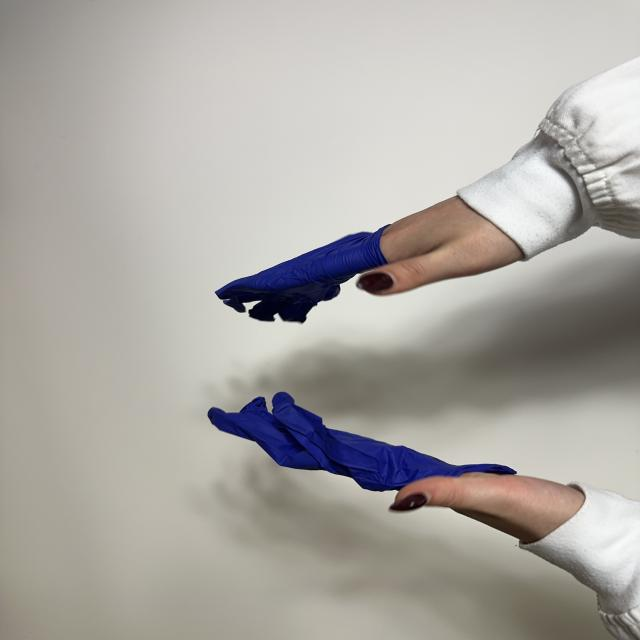glove_partial: (208, 392, 586, 543), (217, 197, 523, 322)
